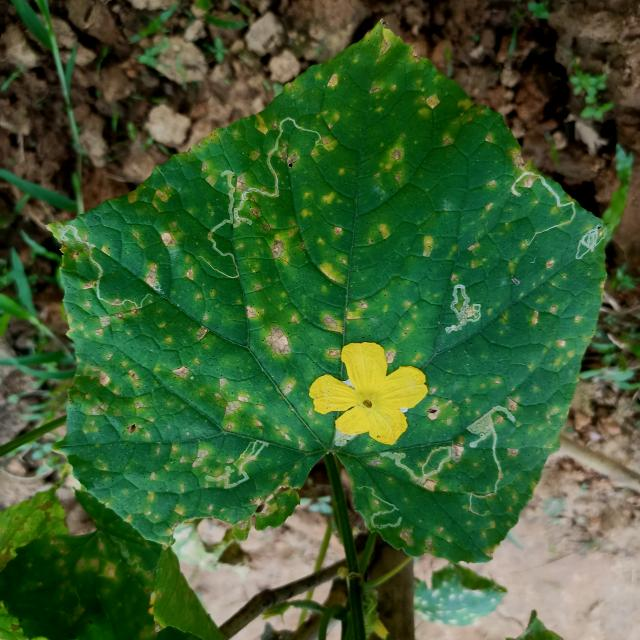disease_cucumber: (82, 71, 599, 532)
